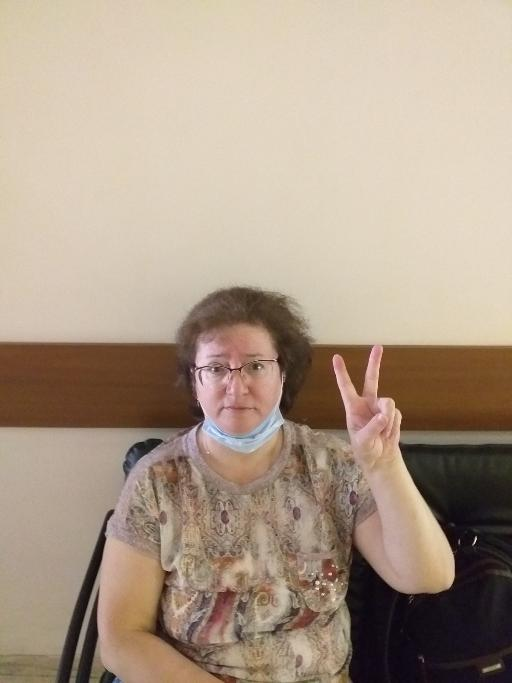peace: (328, 342, 405, 465)
